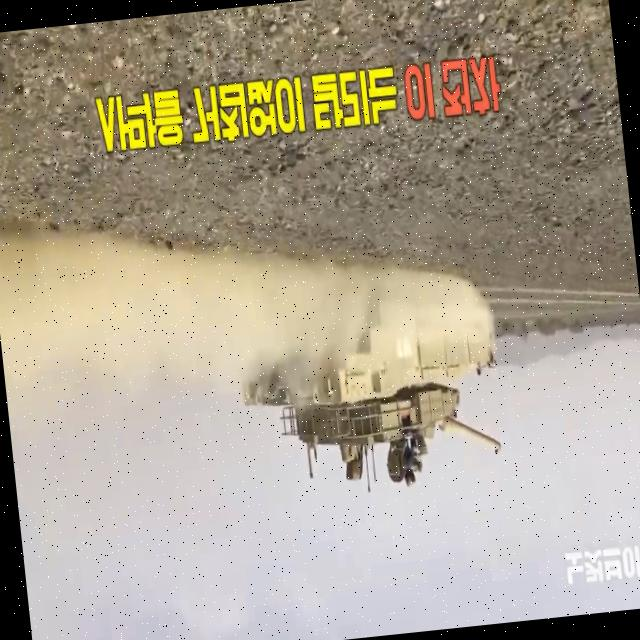korea tank: (234, 264, 515, 508)
